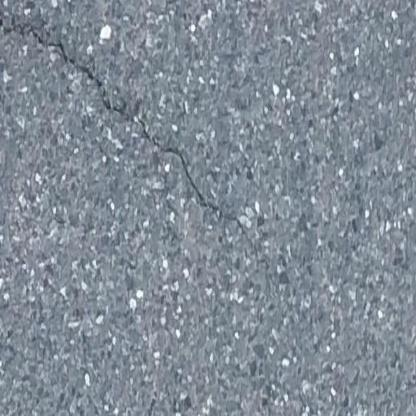Cracks: (0, 0, 259, 243)
